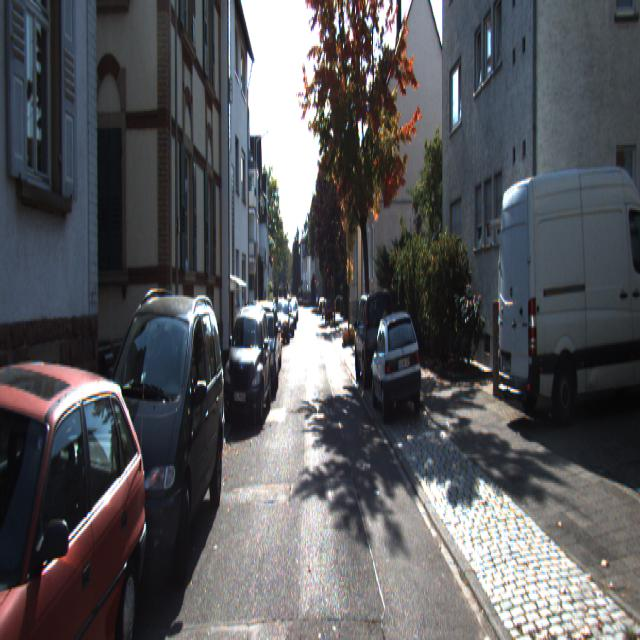Car: (78, 284, 230, 614), (0, 354, 158, 638), (494, 154, 640, 434), (368, 309, 426, 425), (222, 300, 272, 434), (352, 287, 397, 391), (248, 300, 280, 398)
